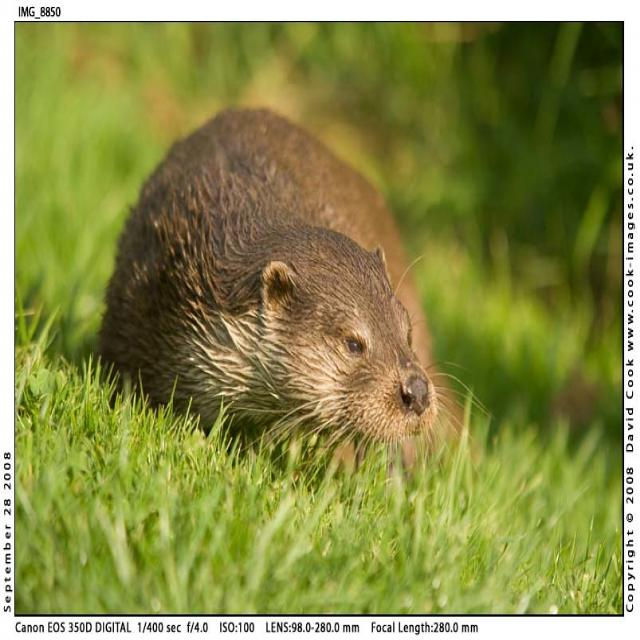otter: (111, 109, 440, 454)
